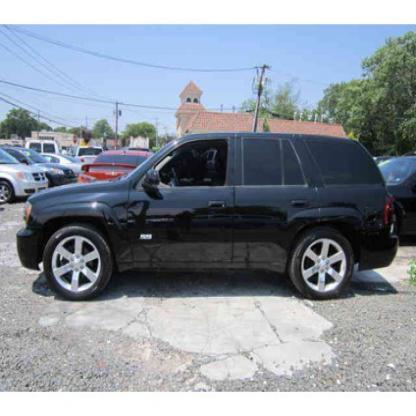Vehicle: (16, 130, 401, 304)
